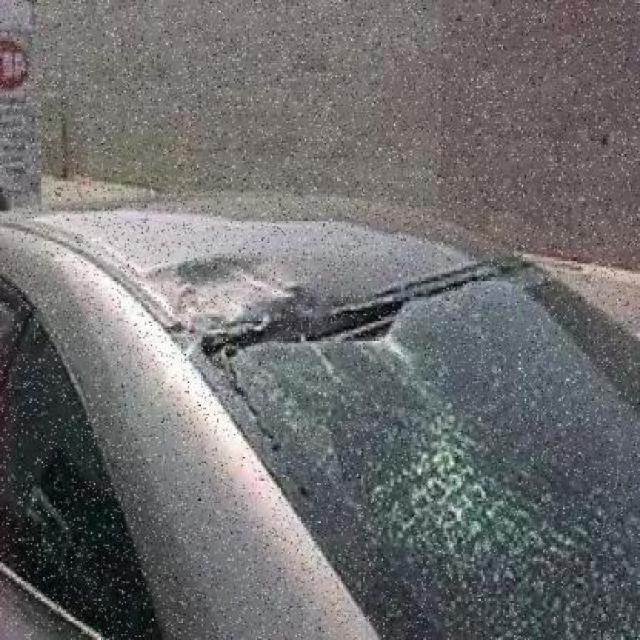Rear-windscreen-Damage: (167, 228, 639, 637)
